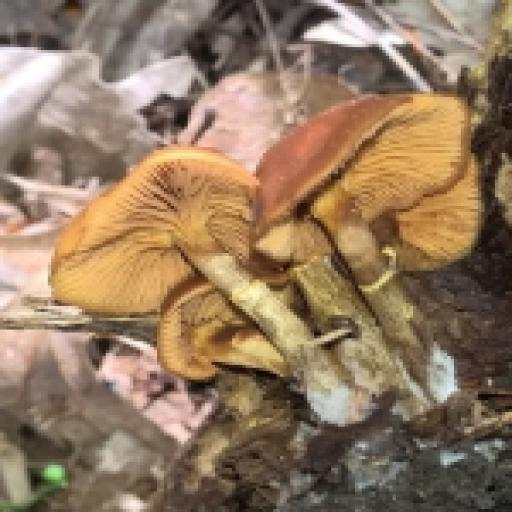mushroom: (45, 88, 504, 397)
